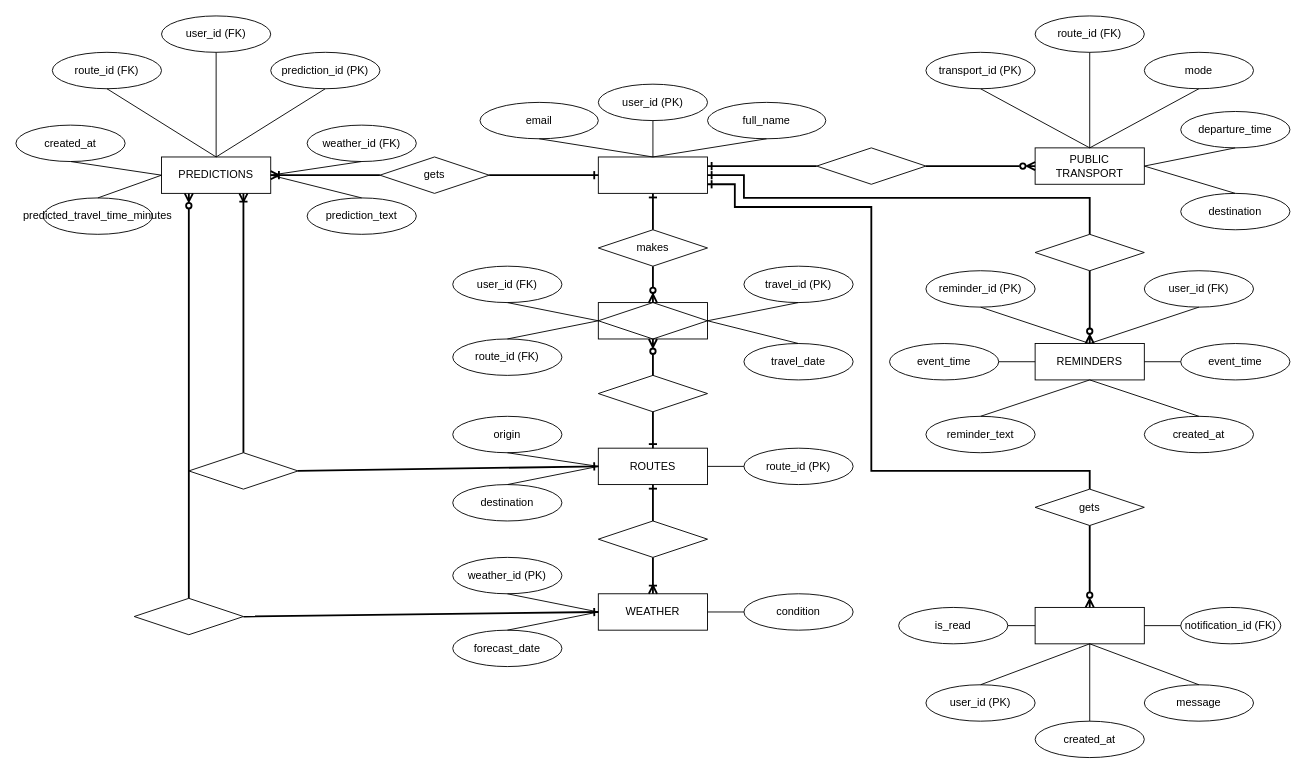
The diagram is 1306 pixels wide and 774 high, and some of its shapes have lost their labels. The shapes that lost their labels are listed below. From the top down, each one's box as (x1, y1, x2, y2) in pixels, then its label:
(597, 156, 708, 193): USERS
(816, 147, 926, 184): takes
(1034, 233, 1144, 271): sets
(597, 302, 708, 339): TRAVEL
(597, 374, 708, 412): has
(188, 452, 298, 489): for
(597, 520, 708, 557): affected by
(133, 597, 243, 635): based on
(1034, 607, 1144, 644): NOTIFICATIONS
